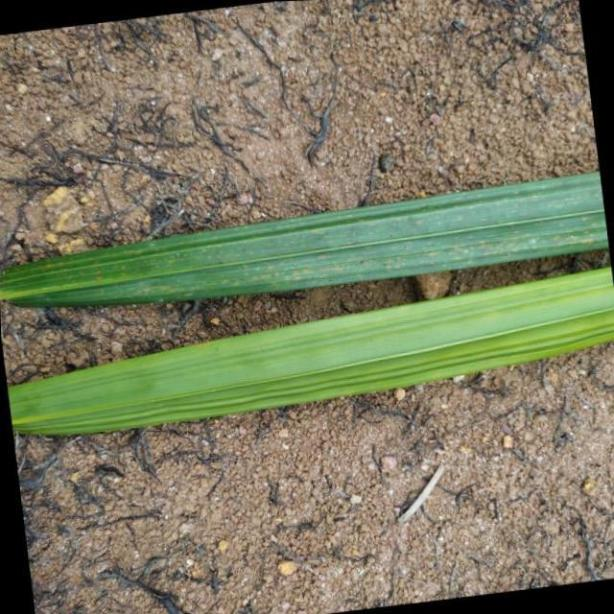nitrogen: (0, 262, 614, 438), (0, 163, 614, 306)
